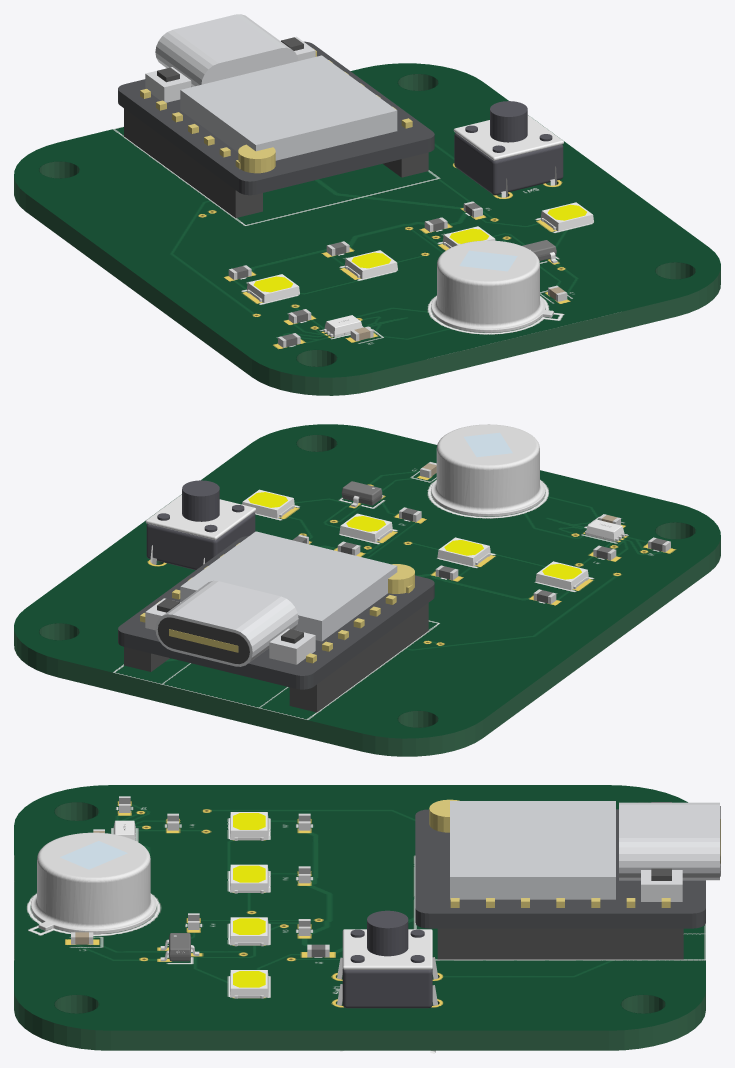
The model's file is board.glb.
3 views of the same model, one above another, from view 1: azimuth 30°, elevation 25°; view 2: azimuth 150°, elevation 25°; view 3: azimuth 270°, elevation 25° (orthographic). The views are drawn at different scales.
Visible parts, largest first — view 1: Box0, U1, U2, SW1, LED1, LED4, LED3, LED2; view 2: Box0, U1, U2, SW1, LED4, LED3, LED2, LED1, Q1, U3; view 3: Box0, U1, U2, SW1, LED3, LED2, LED1, LED4, Q1.
Boxes of the visible parts, x1=… form: Box0: x1=14, y1=63, x2=720, y2=395; U1: x1=118, y1=14, x2=434, y2=217; U2: x1=431, y1=240, x2=553, y2=332; SW1: x1=453, y1=101, x2=563, y2=197; LED1: x1=540, y1=202, x2=593, y2=231; LED4: x1=246, y1=274, x2=299, y2=302; LED3: x1=344, y1=250, x2=397, y2=279; LED2: x1=442, y1=226, x2=495, y2=248; Box0: x1=14, y1=424, x2=720, y2=756; U1: x1=118, y1=531, x2=434, y2=712; U2: x1=431, y1=424, x2=545, y2=516; SW1: x1=145, y1=480, x2=255, y2=570; LED4: x1=535, y1=561, x2=588, y2=590; LED3: x1=437, y1=537, x2=490, y2=566; LED2: x1=339, y1=513, x2=392, y2=542; LED1: x1=242, y1=489, x2=294, y2=518; Q1: x1=341, y1=481, x2=383, y2=507; U3: x1=585, y1=519, x2=625, y2=541; Box0: x1=14, y1=785, x2=705, y2=1050; U1: x1=415, y1=799, x2=720, y2=959; U2: x1=31, y1=832, x2=156, y2=934; SW1: x1=337, y1=910, x2=438, y2=1053; LED3: x1=230, y1=864, x2=268, y2=893; LED2: x1=230, y1=917, x2=268, y2=946; LED1: x1=230, y1=970, x2=268, y2=998; LED4: x1=230, y1=812, x2=268, y2=840; Q1: x1=160, y1=933, x2=199, y2=961.
Size of the model in its own units: 42 by 10.72 by 51.08.
Materials: 24 (2 with a texture image).
